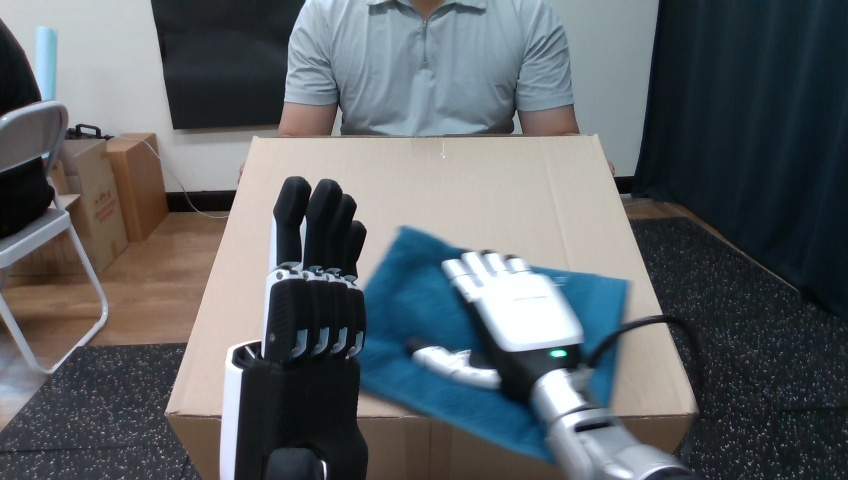left robot hand: (408, 251, 693, 479), (220, 176, 367, 479)
